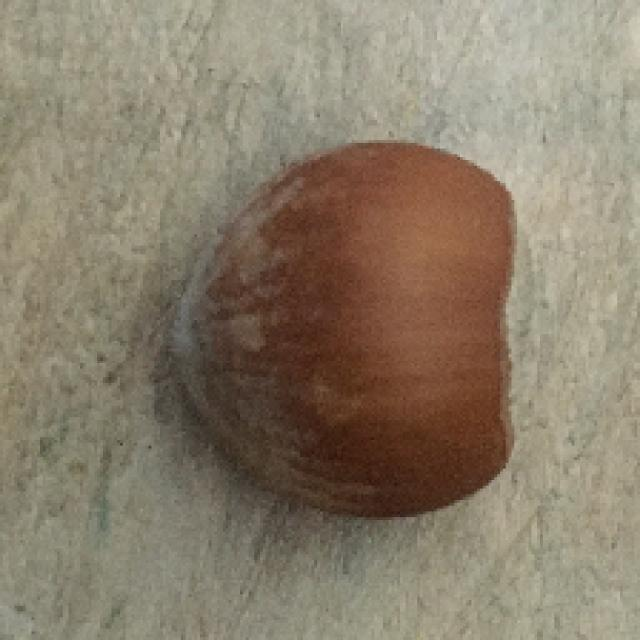qualityHazelnut: (170, 137, 535, 521)
